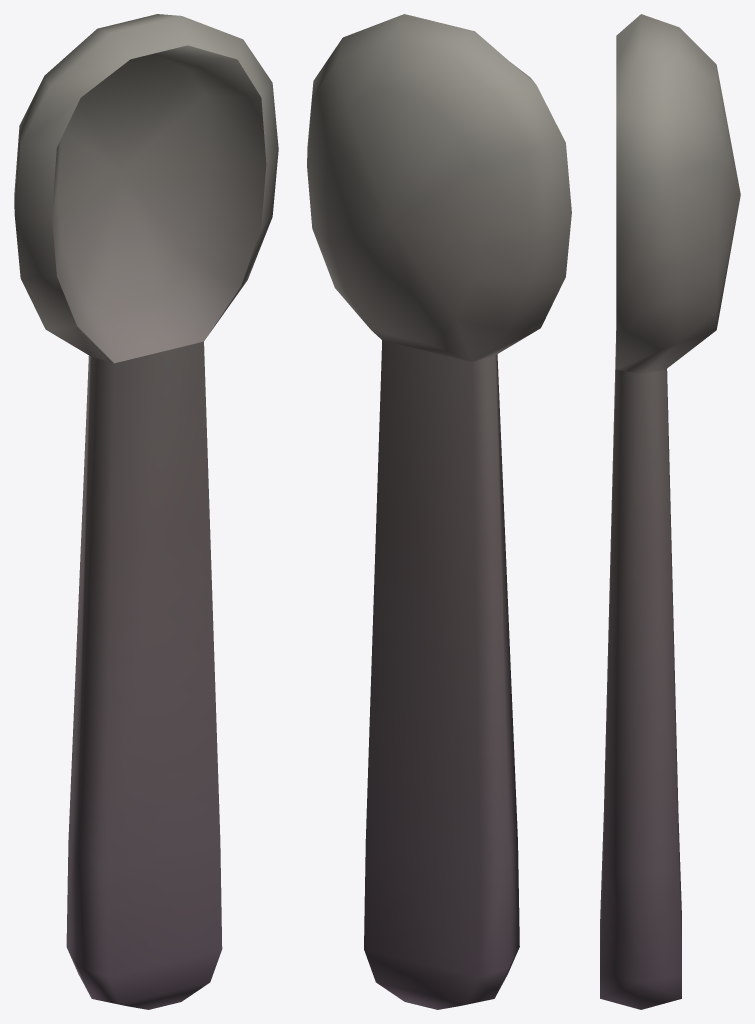
File: Spoon_Big_01.glb
The picture shows the model from 3 angles, left to right: view 1: azimuth 30°, elevation 25°; view 2: azimuth 150°, elevation 25°; view 3: azimuth 270°, elevation 25°; orthographic projection.
Visible parts, largest first — view 1: Spoon_Big_01; view 2: Spoon_Big_01; view 3: Spoon_Big_01.
Boxes of the visible parts, box(x1,y1,x2,y2) form: Spoon_Big_01: box(14, 14, 278, 1009); Spoon_Big_01: box(307, 14, 571, 1009); Spoon_Big_01: box(600, 14, 740, 1009).
Size of the model in its own units: 0.1357 by 0.4794 by 0.063.
Materials: 1 (1 with a texture image).
